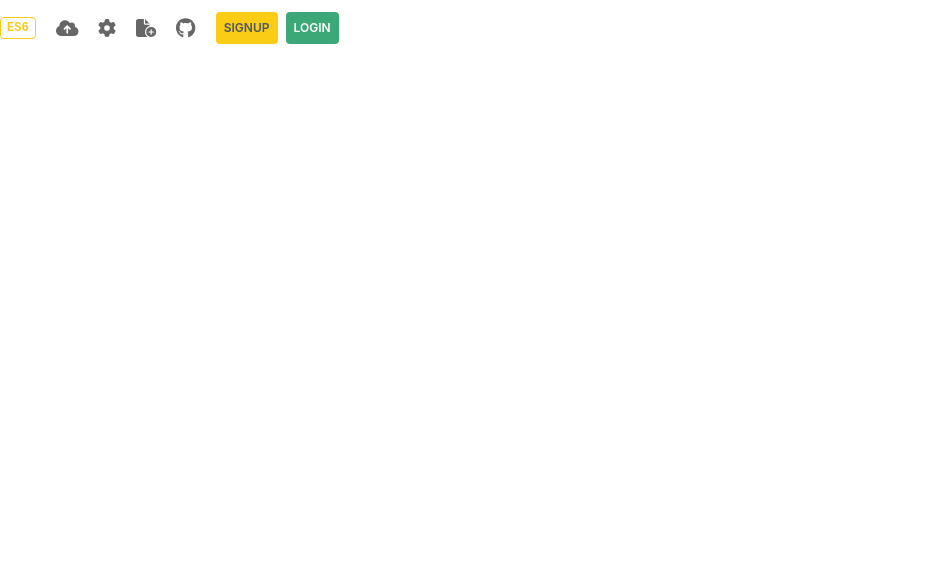
CodeFeature Component › correct show popup › remind popup
The width and height of the screenshot is (942, 571).
Click the picture named "fa-file-circle-plus" at (146, 28), box [136,19,156,37]
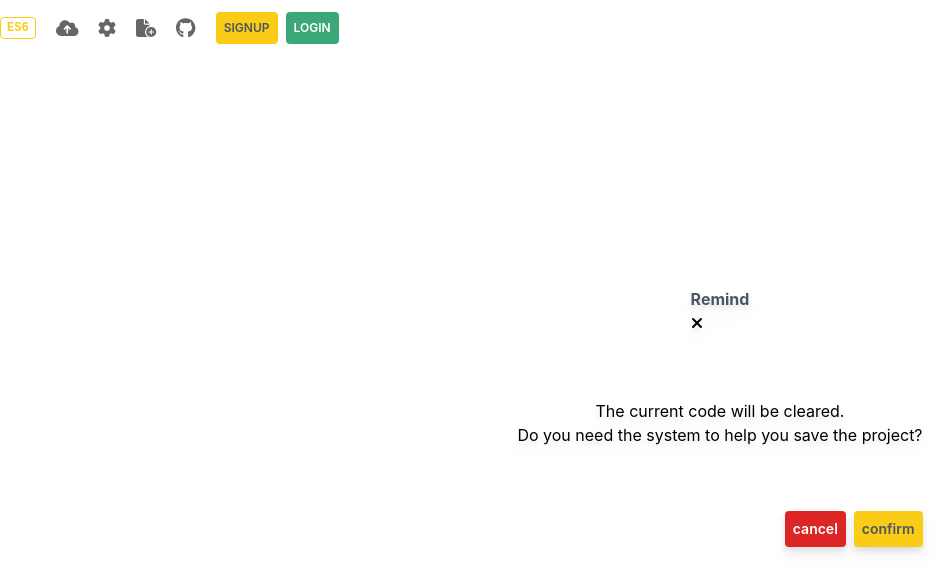
Result: the heading "Remind" is shown at [691,287,749,311]
